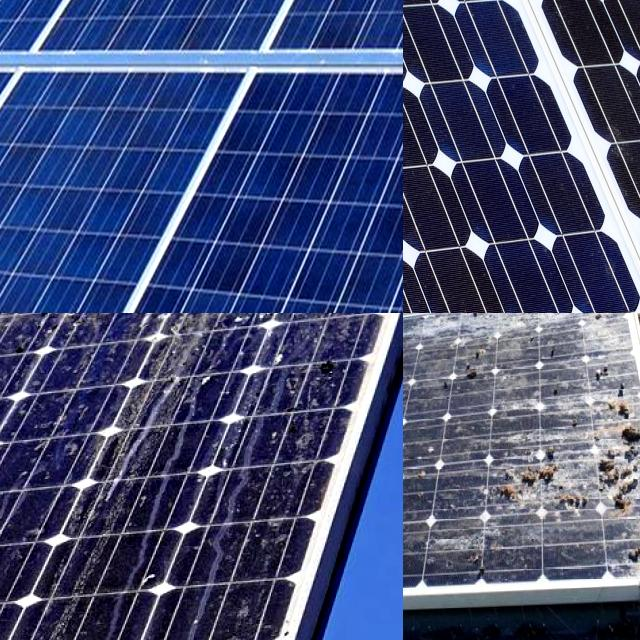bird: (494, 436, 562, 512), (589, 444, 640, 516), (280, 341, 364, 384), (563, 313, 620, 376), (260, 413, 335, 458), (301, 313, 403, 346), (171, 313, 286, 341), (448, 315, 485, 398), (33, 313, 126, 341), (0, 313, 43, 360), (606, 394, 640, 446), (524, 313, 559, 355), (633, 537, 640, 581)
crack: (0, 0, 403, 313), (403, 0, 640, 313)
